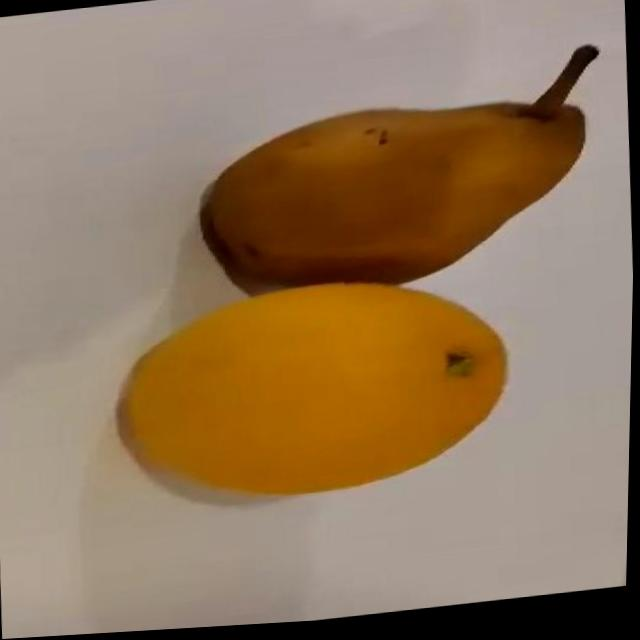Orange: (110, 268, 518, 518)
